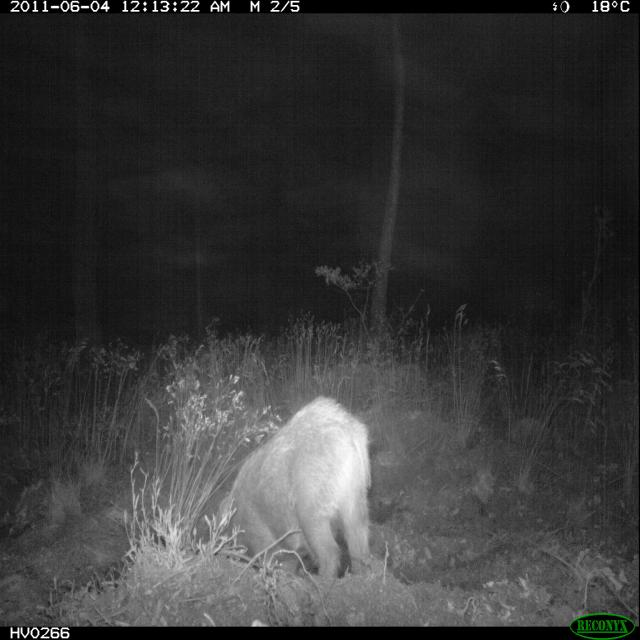boar: (186, 387, 378, 590)
